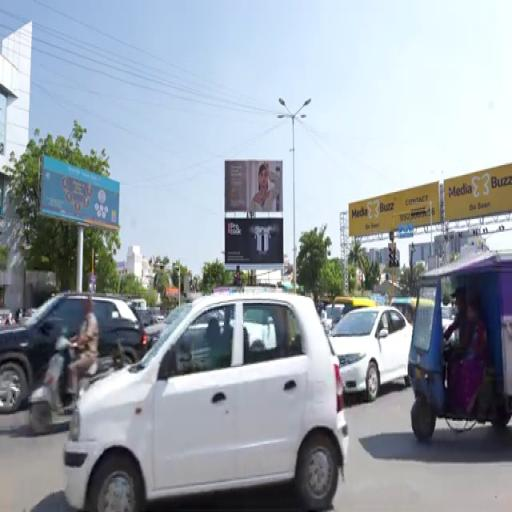Car: (64, 293, 348, 511), (0, 293, 87, 413), (331, 306, 412, 401)
